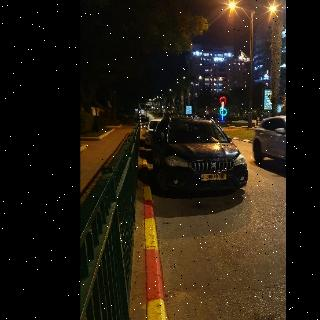LicensePlate: (205, 175, 227, 180)
